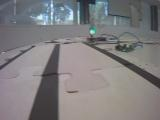tl_green: (90, 15, 96, 35)
